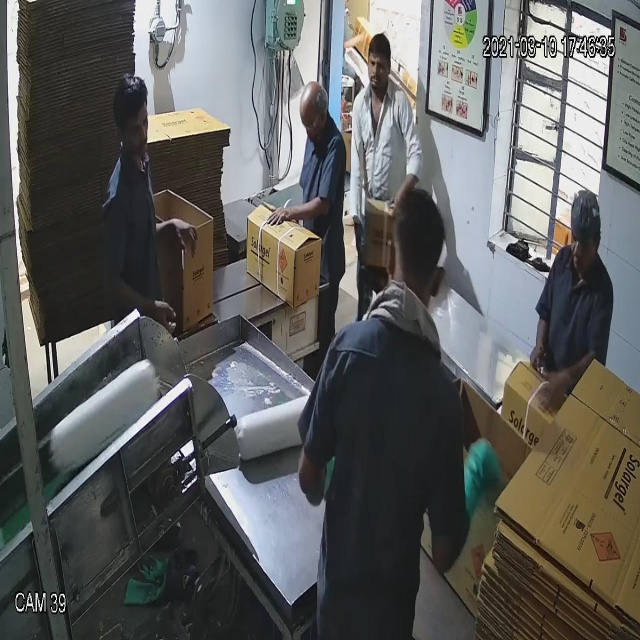Sin_guantes: (103, 247, 180, 363), (538, 342, 604, 423), (146, 198, 211, 267), (263, 190, 335, 243)
